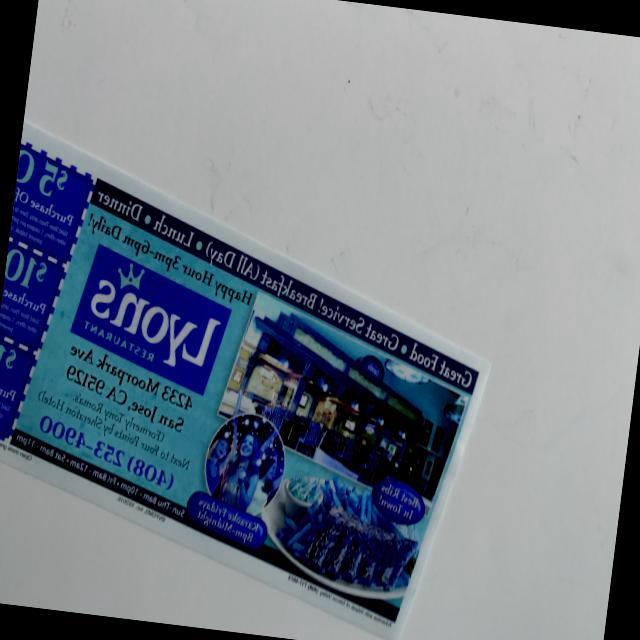paper: (0, 105, 500, 640)
